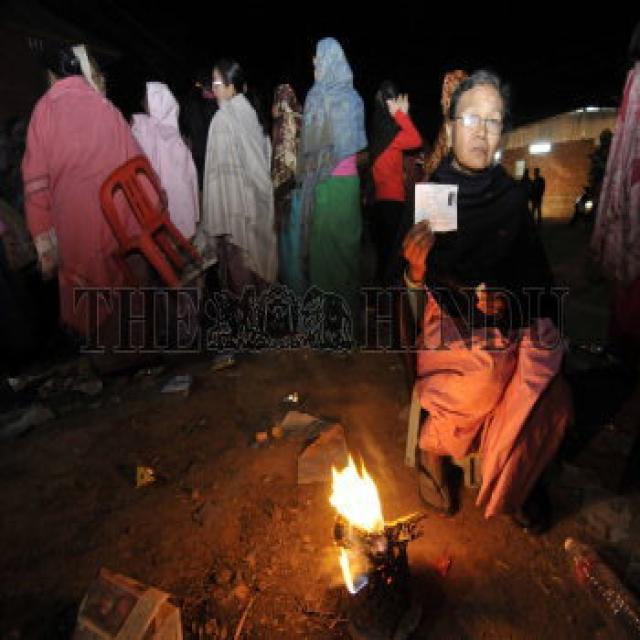fire: (329, 452, 383, 533), (338, 546, 367, 596)
